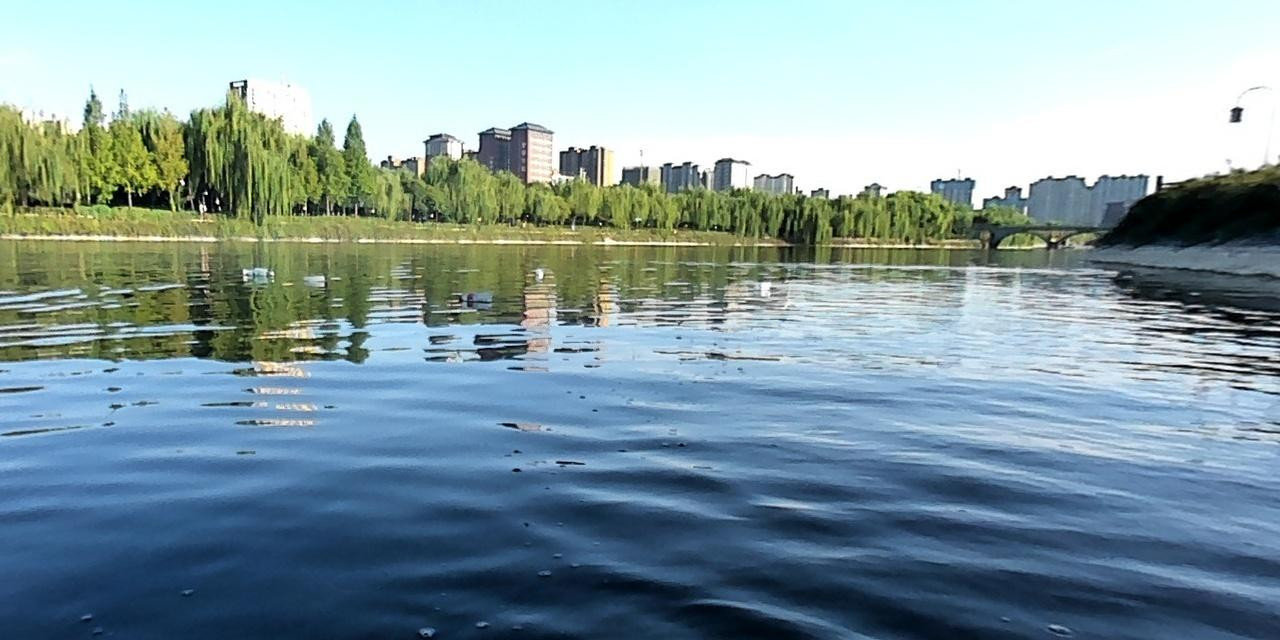bottle: (236, 262, 276, 279), (455, 289, 490, 302), (296, 271, 328, 282)
